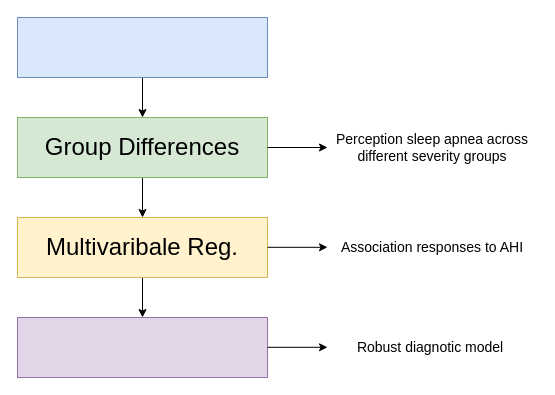
Some shapes in this 555 by 395 pixel diagram are drawn without their labels. Here are the shapes that lost their labels. From the top down, the centre of each, then its label:
At pixel 142 47: "Descriptive Statistics".
At pixel 142 347: "Predictive Model".
